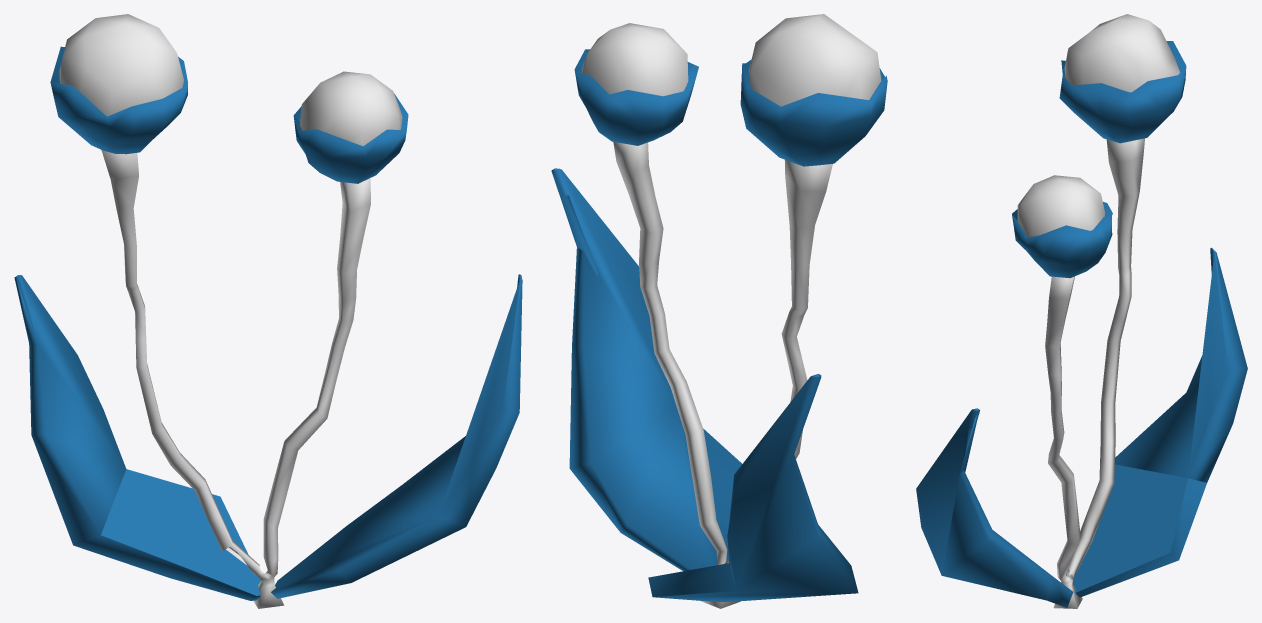
The model's file is bubble_guy_2.fbx.
3 views of the same model, side by side, from view 1: azimuth 30°, elevation 25°; view 2: azimuth 150°, elevation 25°; view 3: azimuth 270°, elevation 25° (orthographic). The views are drawn at different scales.
Parts seen in each view (by area): view 1: Cube.009, Cube.010, Cube.011, Icosphere.005, Icosphere.006, Icosphere.004, Icosphere.003; view 2: Cube.010, Cube.009, Cube.011, Icosphere.005, Icosphere.006, Icosphere.004, Icosphere.003; view 3: Cube.009, Cube.011, Cube.010, Icosphere.005, Icosphere.006, Icosphere.004, Icosphere.003.
Boxes of the visible parts, <box> form: Cube.009: <box>14,275,260,600</box>; Cube.010: <box>271,274,522,598</box>; Cube.011: <box>101,150,370,608</box>; Icosphere.005: <box>59,14,183,116</box>; Icosphere.006: <box>50,46,187,154</box>; Icosphere.004: <box>299,71,402,145</box>; Icosphere.003: <box>293,93,408,183</box>; Cube.010: <box>551,168,741,571</box>; Cube.009: <box>648,374,858,601</box>; Cube.011: <box>613,142,832,608</box>; Icosphere.005: <box>748,14,881,106</box>; Icosphere.006: <box>740,59,887,166</box>; Icosphere.004: <box>581,23,688,96</box>; Icosphere.003: <box>574,49,698,145</box>; Cube.009: <box>1066,247,1247,597</box>; Cube.011: <box>1045,138,1144,608</box>; Cube.010: <box>916,408,1073,607</box>; Icosphere.005: <box>1064,14,1179,92</box>; Icosphere.006: <box>1059,41,1186,143</box>; Icosphere.004: <box>1017,175,1105,237</box>; Icosphere.003: <box>1012,202,1112,278</box>.
Size of the model in its own units: 184 by 269 by 152.
